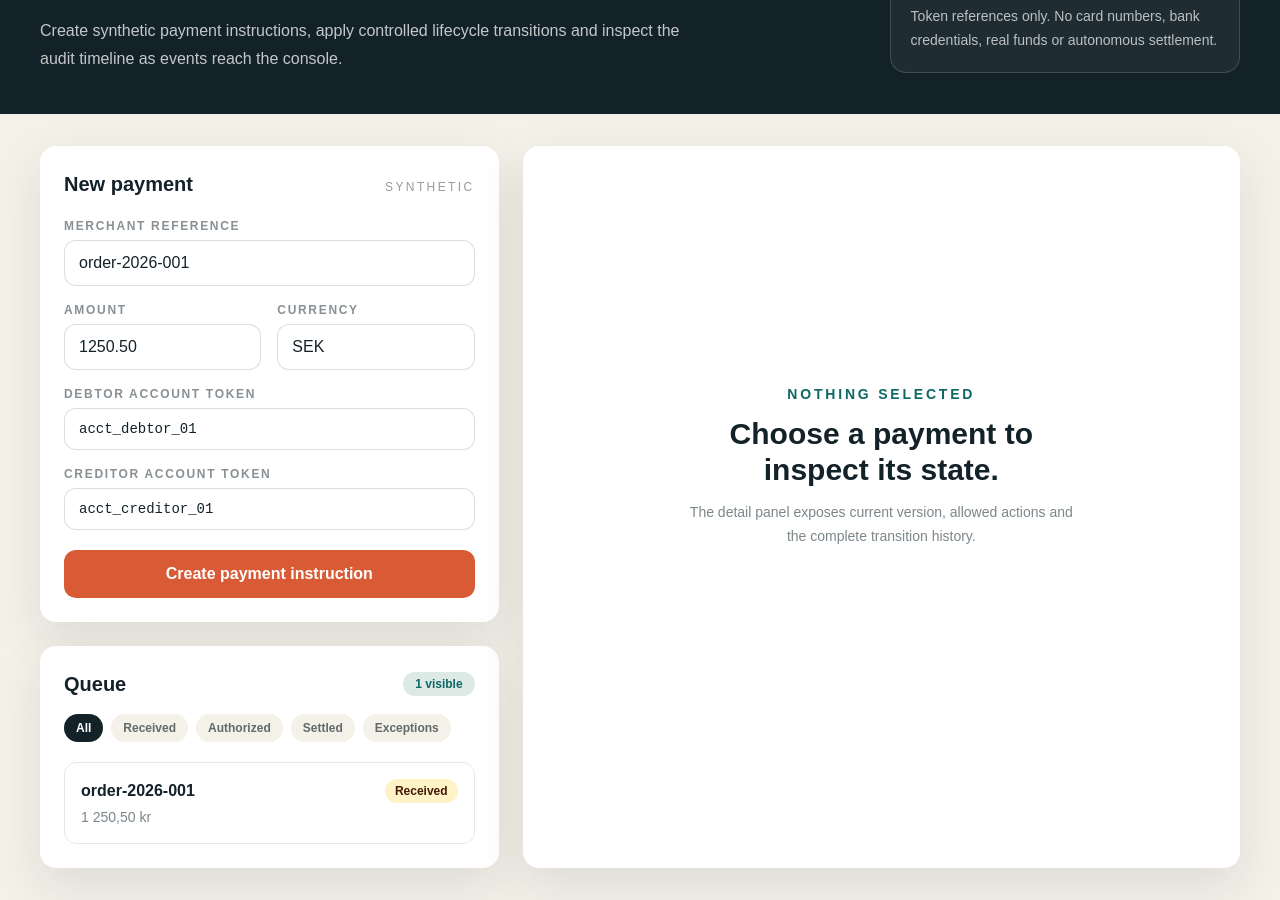
PaymentConsole › sends the visible version with an authorized transition
(page scrolled)
Click the button "order-2026-001" at (138,790), box [64,762,475,844]
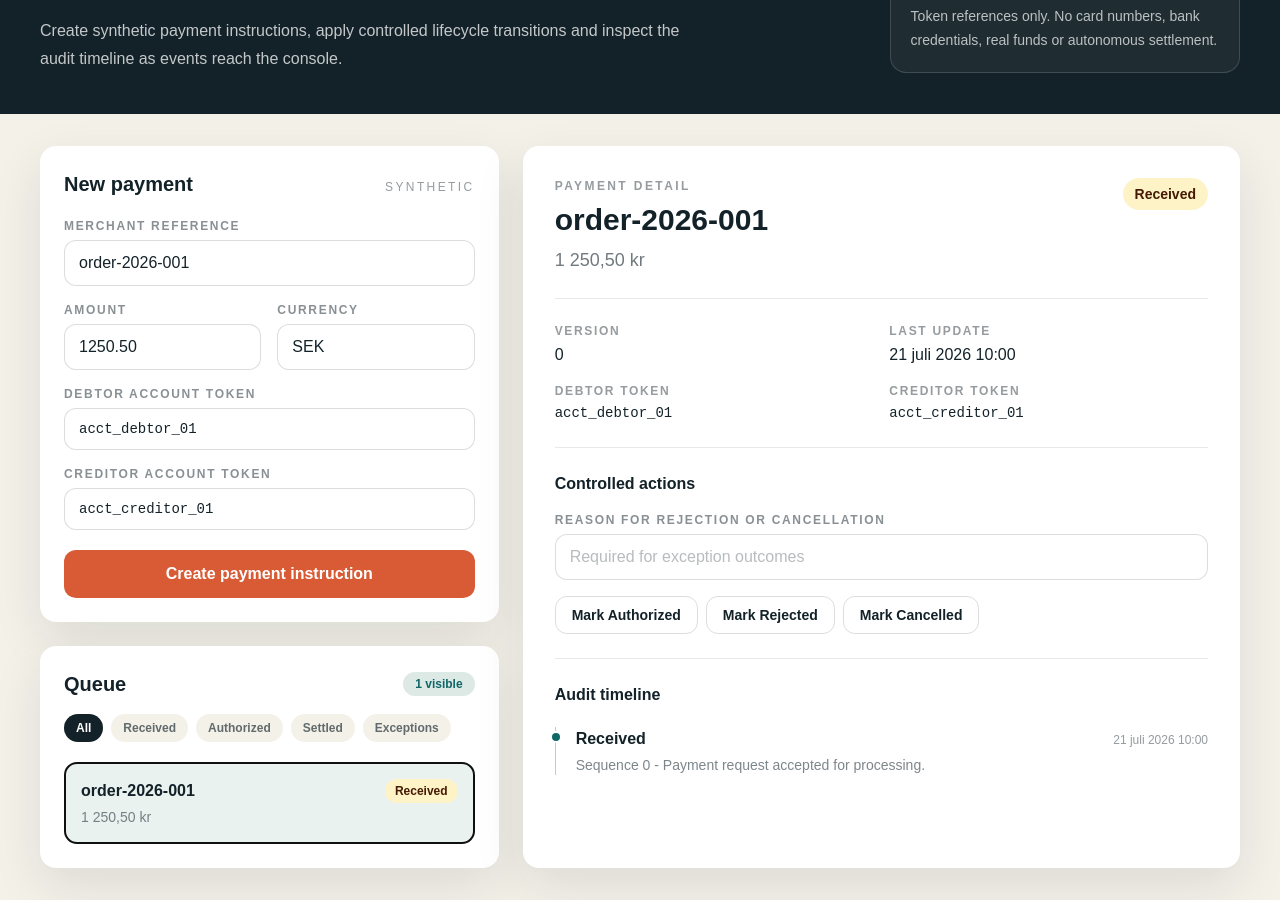
Click the button "Mark Authorized" at (626,615), box [555,596,698,634]
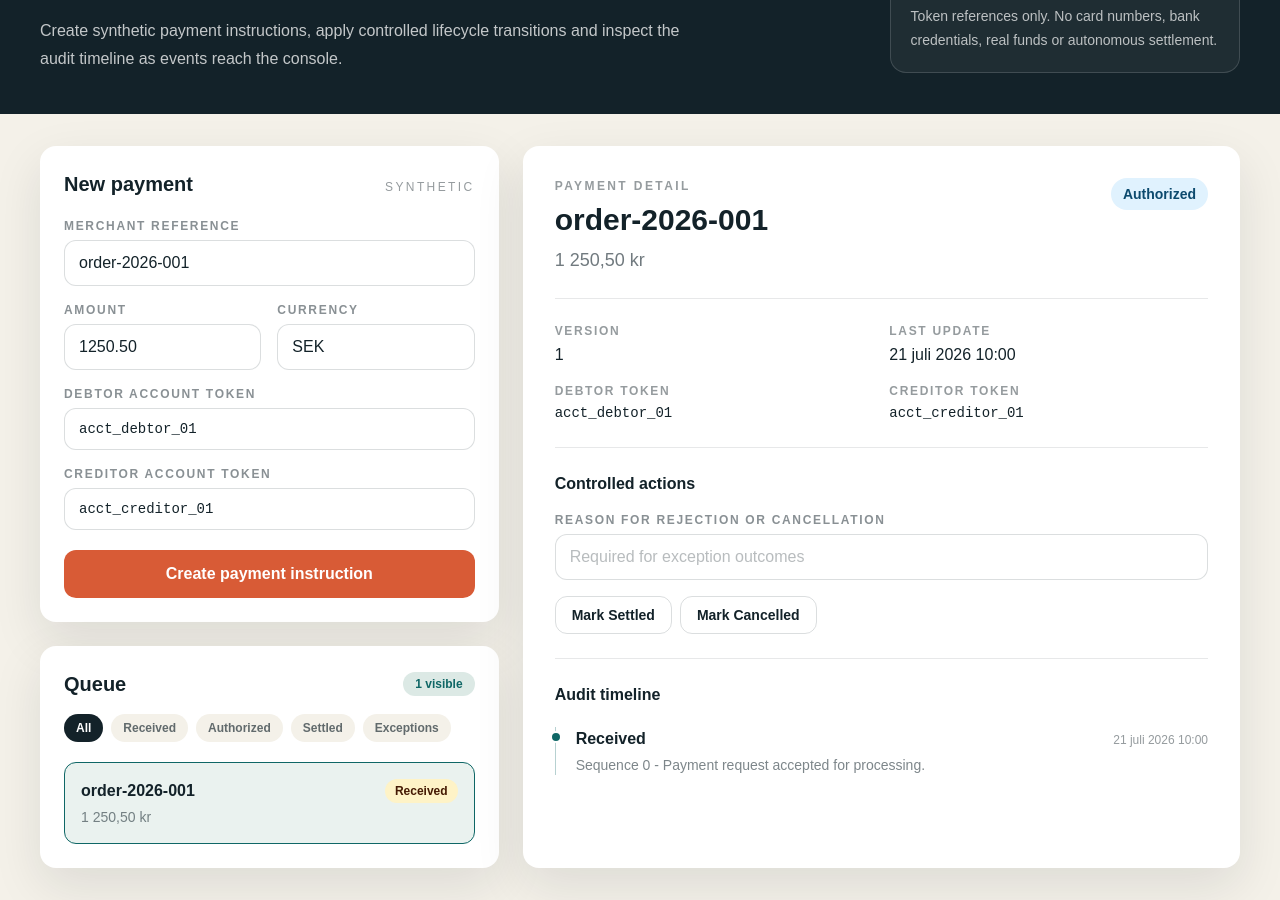
Expected: the button "Mark Settled" is shown, [555,596,672,634]
